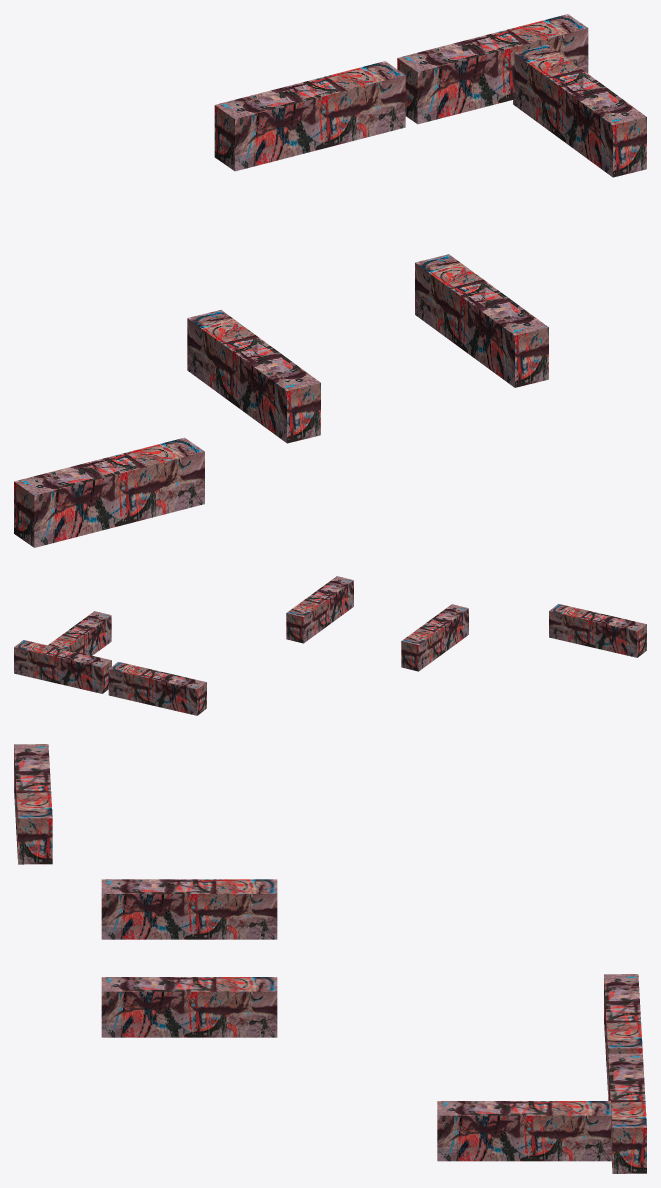
Rendered from decor2.obj.
3 renders of one model, top to bottom at view 1: azimuth 30°, elevation 25°; view 2: azimuth 150°, elevation 25°; view 3: azimuth 270°, elevation 25°, orthographic. The views are drawn at different scales.
Parts seen in each view (by area): view 1: Cube.037, Cube.034, Cube.038, Cube.036, Cube.035, Cube.039; view 2: Cube.037, Cube.034, Cube.038, Cube.035, Cube.036, Cube.039; view 3: Cube.035, Cube.036, Cube.039, Cube.034, Cube.038, Cube.037.
Boxes of the visible parts, box(x1,y1,x2,y2) form: Cube.037: box(214, 61, 405, 171); Cube.034: box(14, 437, 204, 547); Cube.038: box(397, 14, 588, 124); Cube.036: box(415, 254, 548, 387); Cube.035: box(187, 310, 320, 443); Cube.039: box(513, 44, 646, 177); Cube.037: box(108, 662, 206, 715); Cube.034: box(549, 604, 646, 657); Cube.038: box(14, 640, 111, 693); Cube.035: box(401, 604, 468, 671); Cube.036: box(286, 576, 353, 643); Cube.039: box(48, 611, 111, 655); Cube.035: box(101, 879, 277, 939); Cube.036: box(101, 977, 277, 1037); Cube.039: box(437, 1101, 611, 1161); Cube.034: box(14, 744, 52, 864); Cube.038: box(608, 1053, 646, 1173); Cube.037: box(604, 974, 642, 1094).
Bounding box in the file's own units: 39536 × 2454 × 27546.
Materials: 1 (1 with a texture image).
